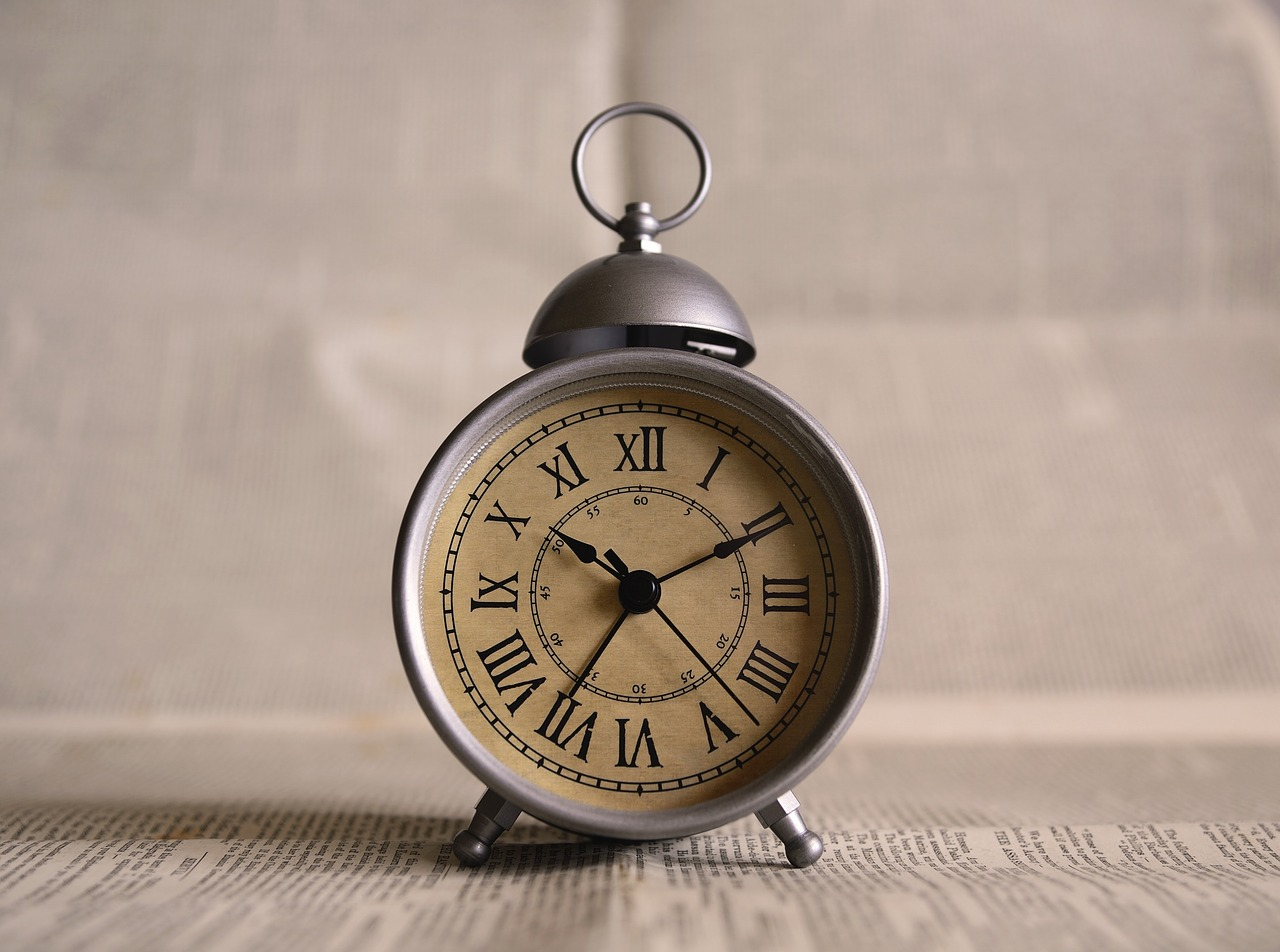clock: (416, 381, 868, 822)
